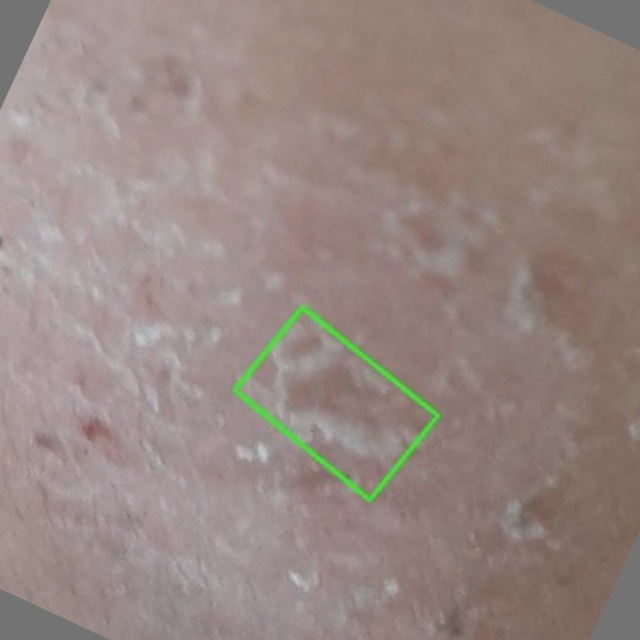Atopic Dermatitis: (235, 307, 438, 500)
